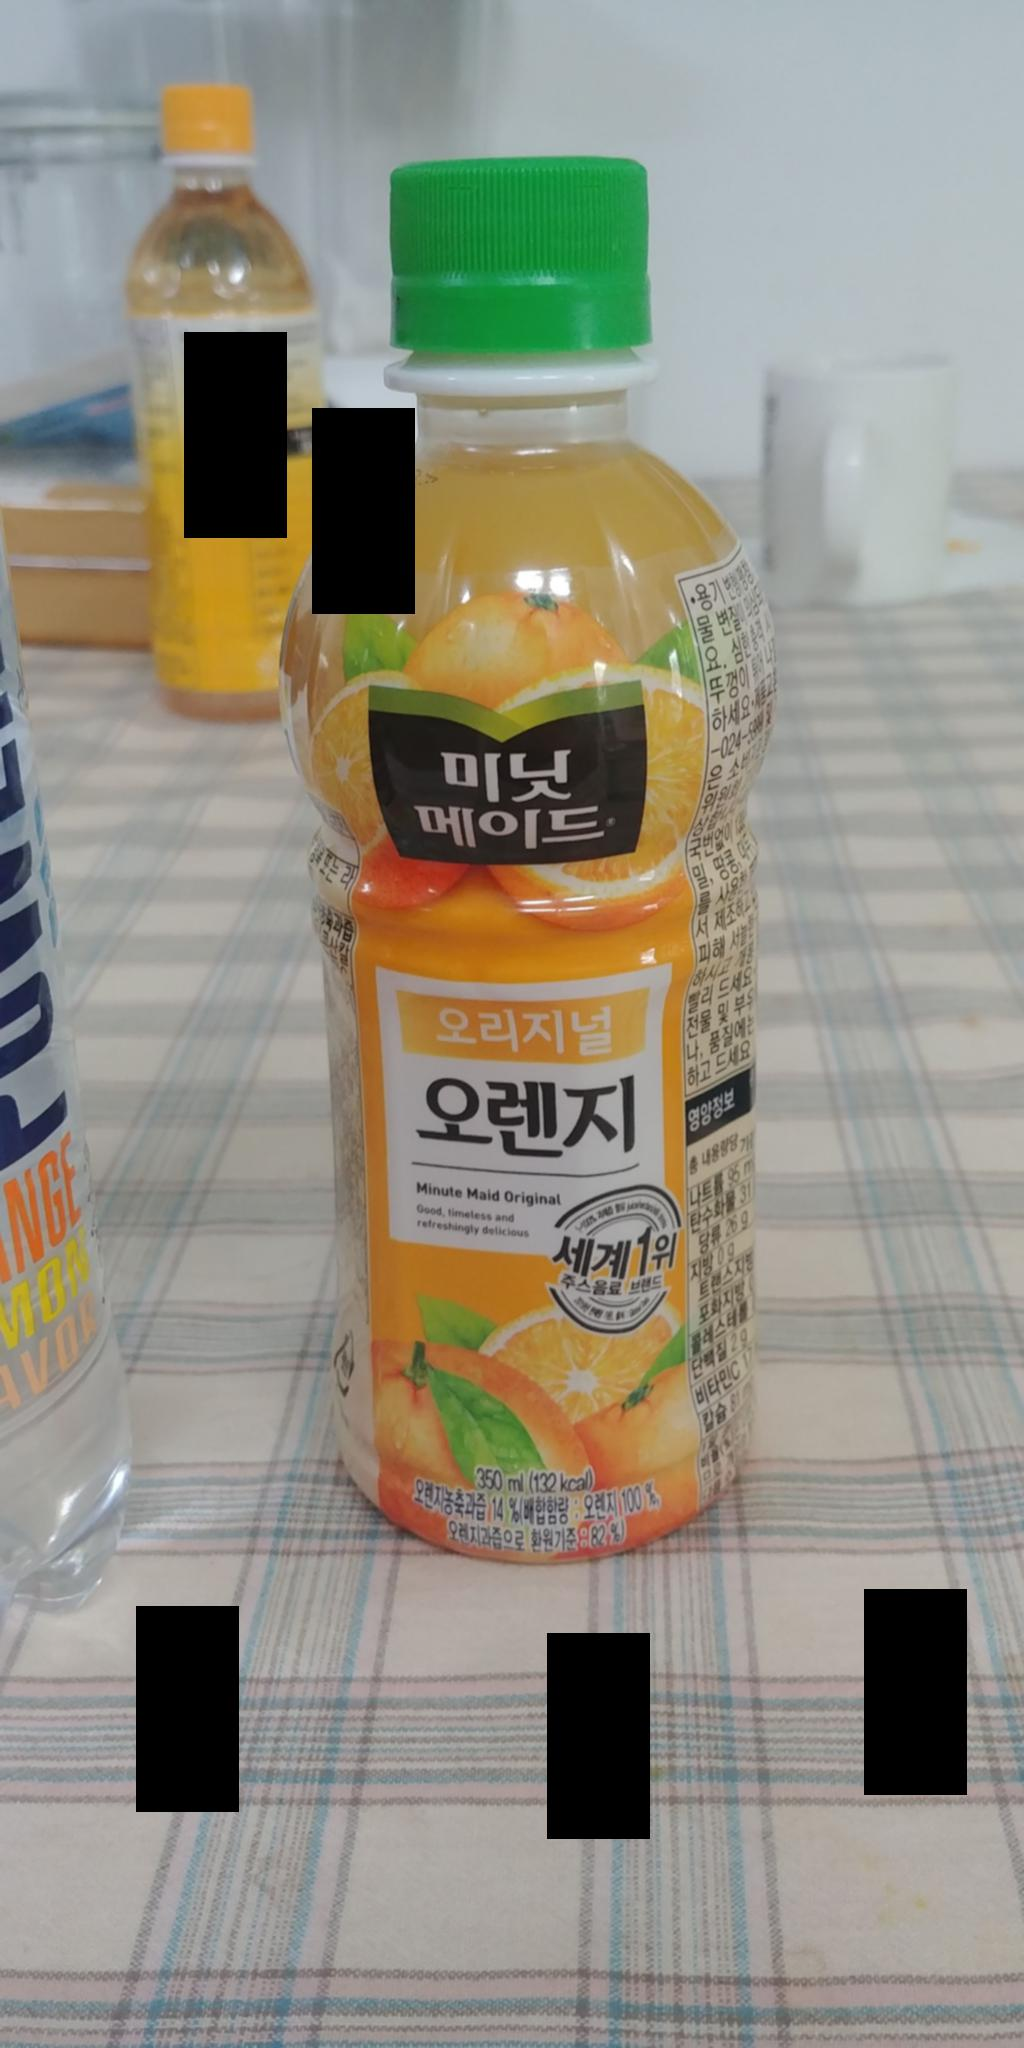minutemaid_org_orange: (285, 153, 768, 1567)
